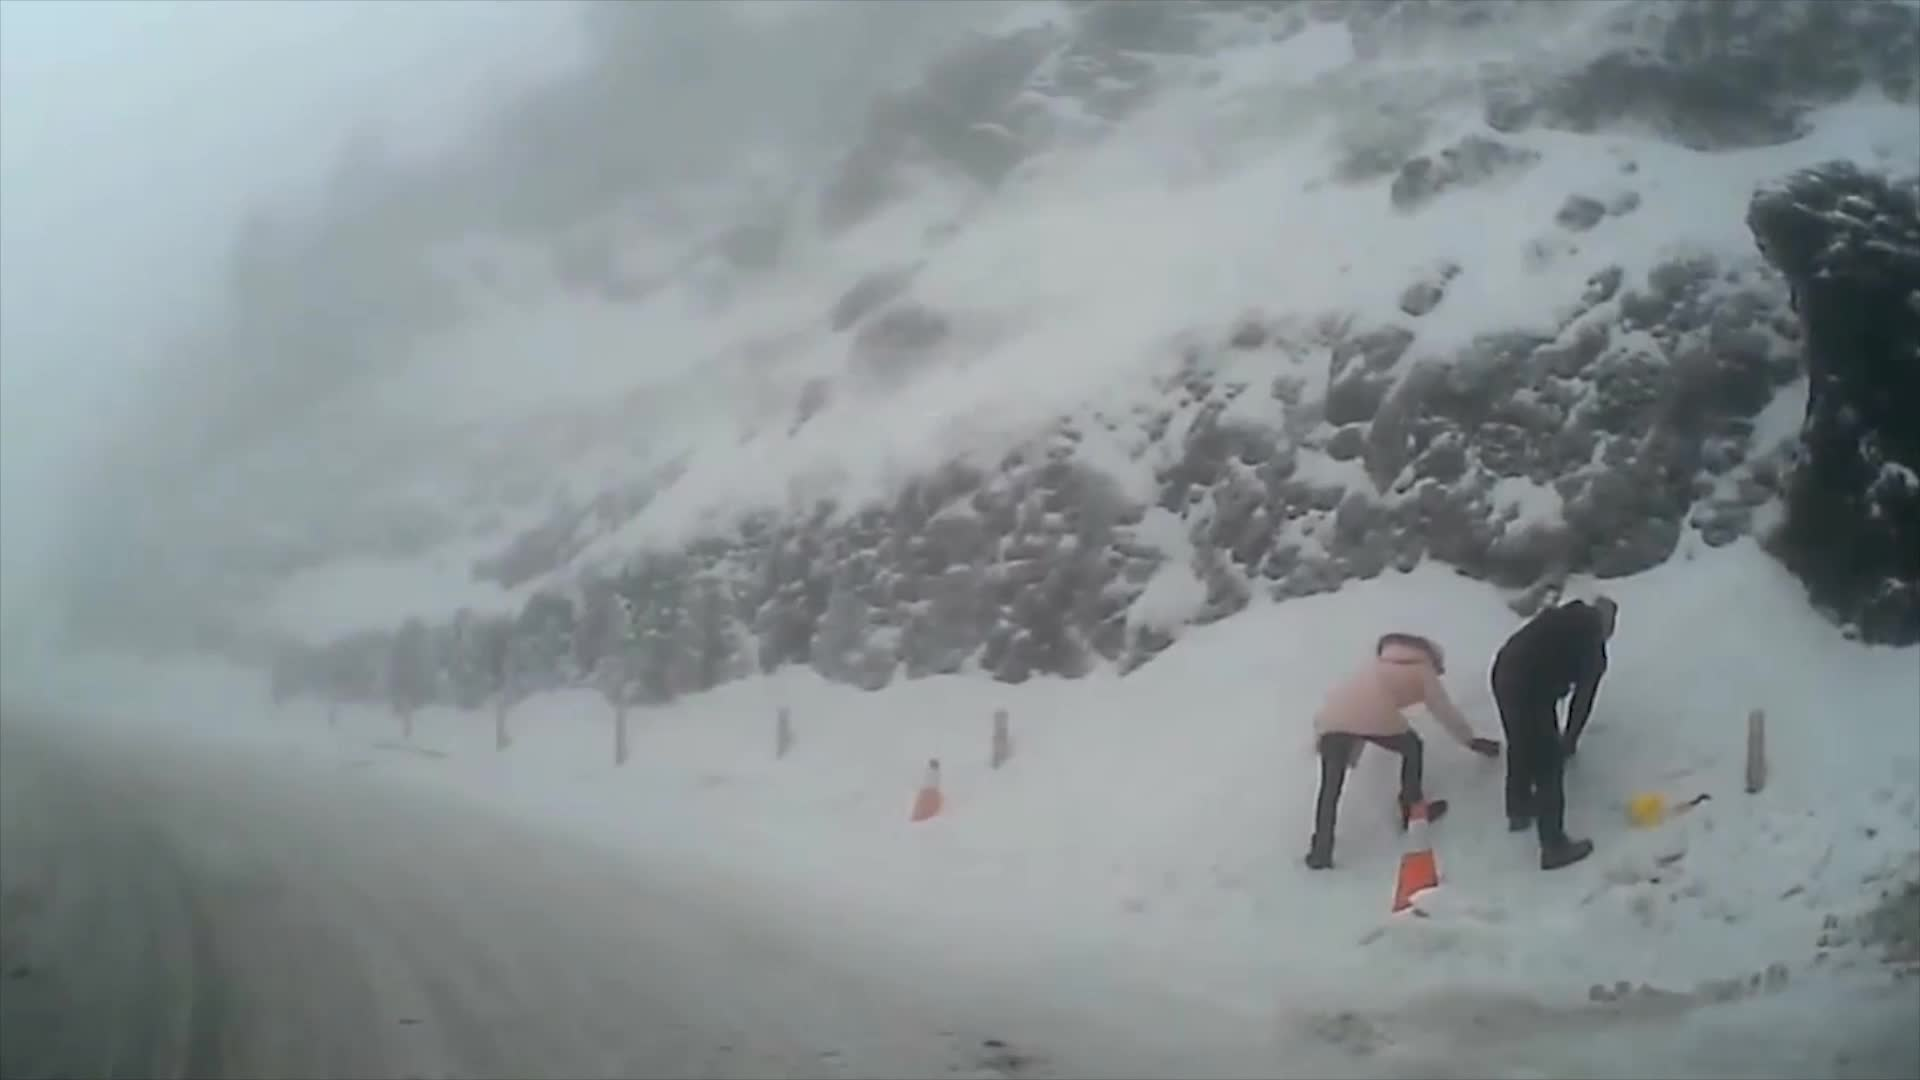pedestrian: (1311, 631, 1496, 866), (1493, 592, 1625, 867)
